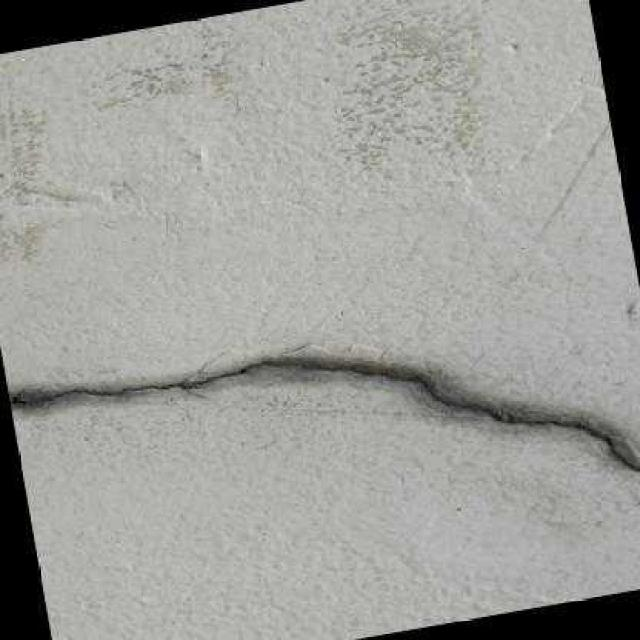D00: (9, 361, 640, 470)
